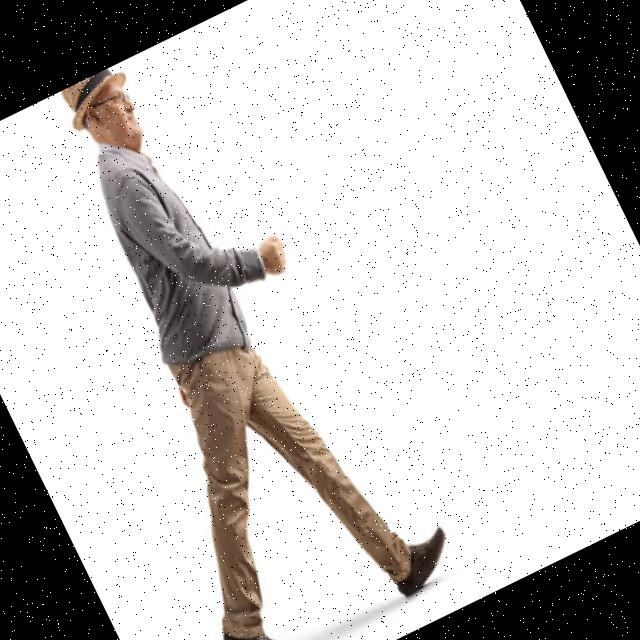Person: (0, 25, 462, 640)
